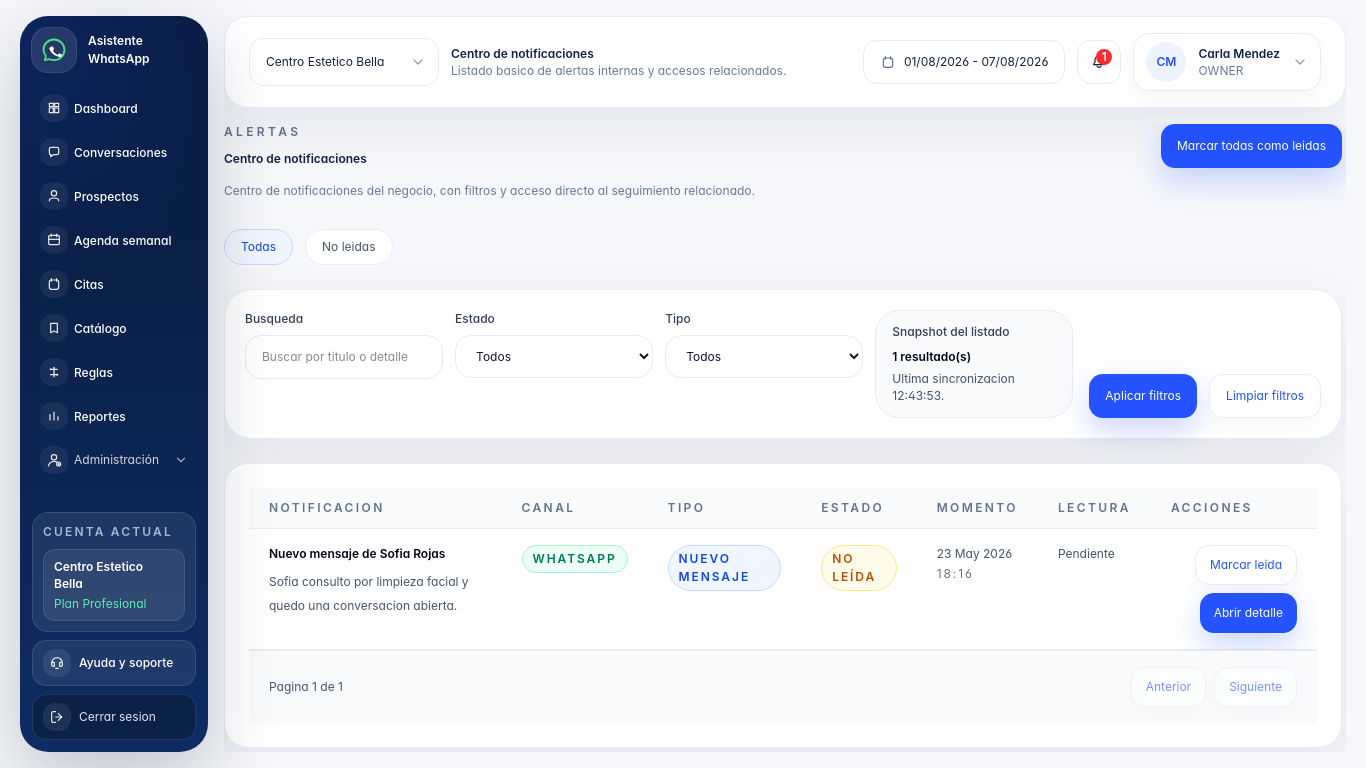
it: NotificationsPage › marks an unread notification as read and refreshes the list
Check: the text "Nuevo mensaje de Sofia Rojas" is shown, box [269,546,445,561]
Click the button "Marcar leida" at [1246, 565], box [1195,545,1297,585]
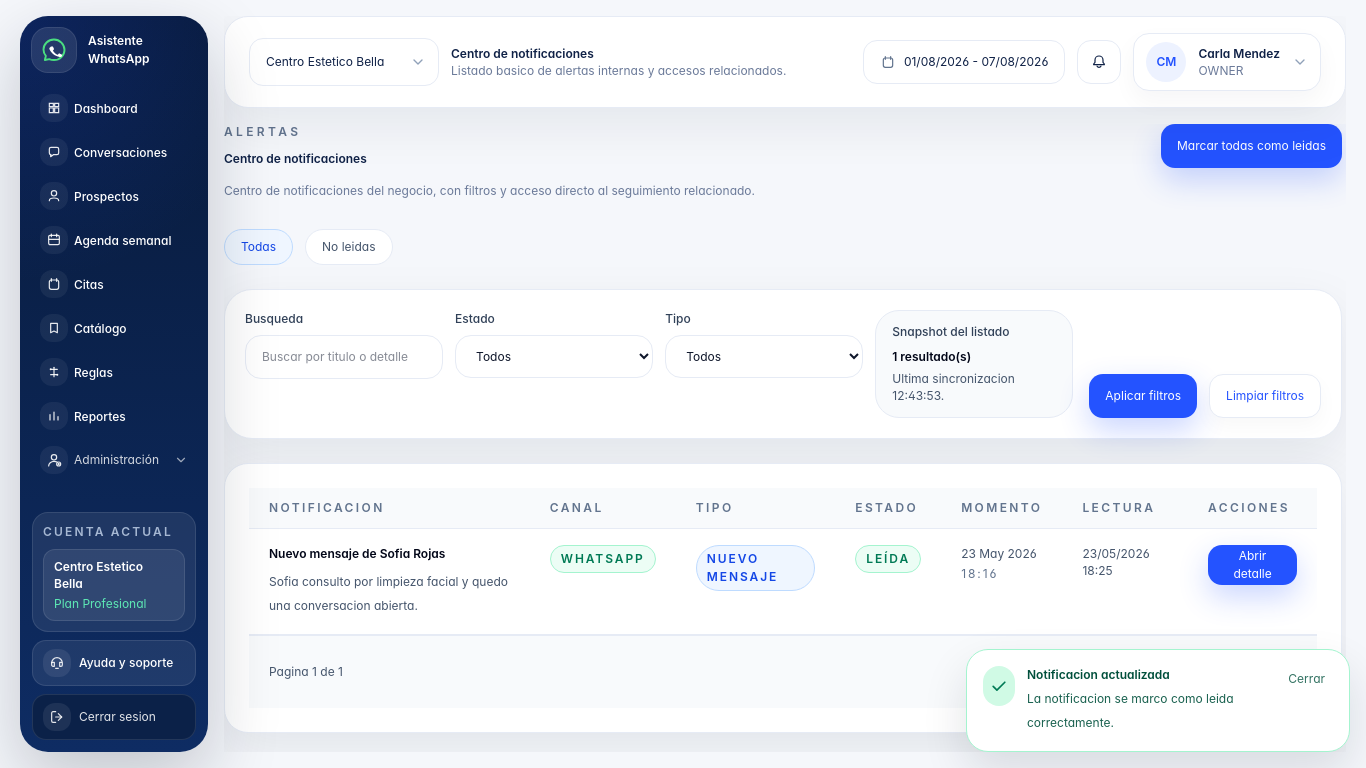
Check: the text "Leída" is shown, box [855,545,921,573]
Check: the button "Marcar leida" is gone
Check: the link named "Notificaciones (0)" is shown, box [1077,40,1121,84]
